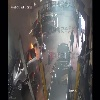fire: (29, 43, 40, 66)
